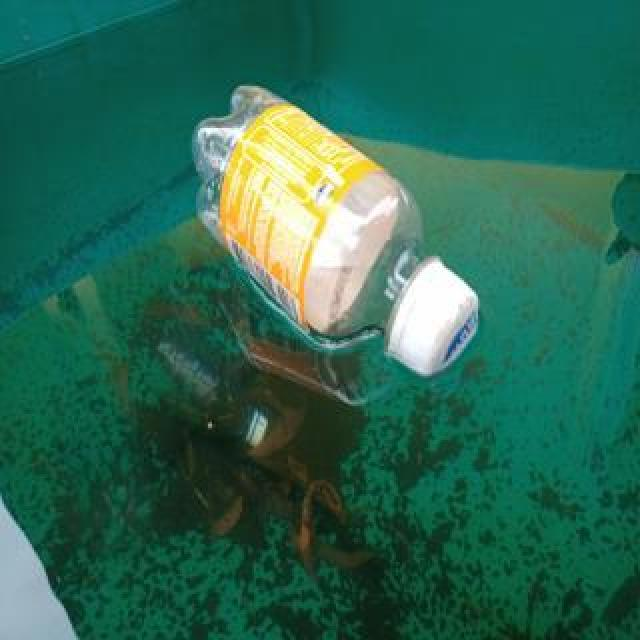bottle: (190, 76, 486, 384)
